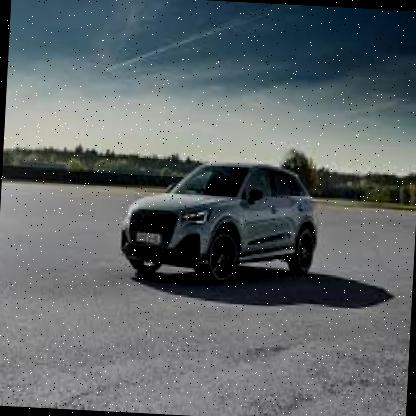car: (110, 149, 326, 305)
